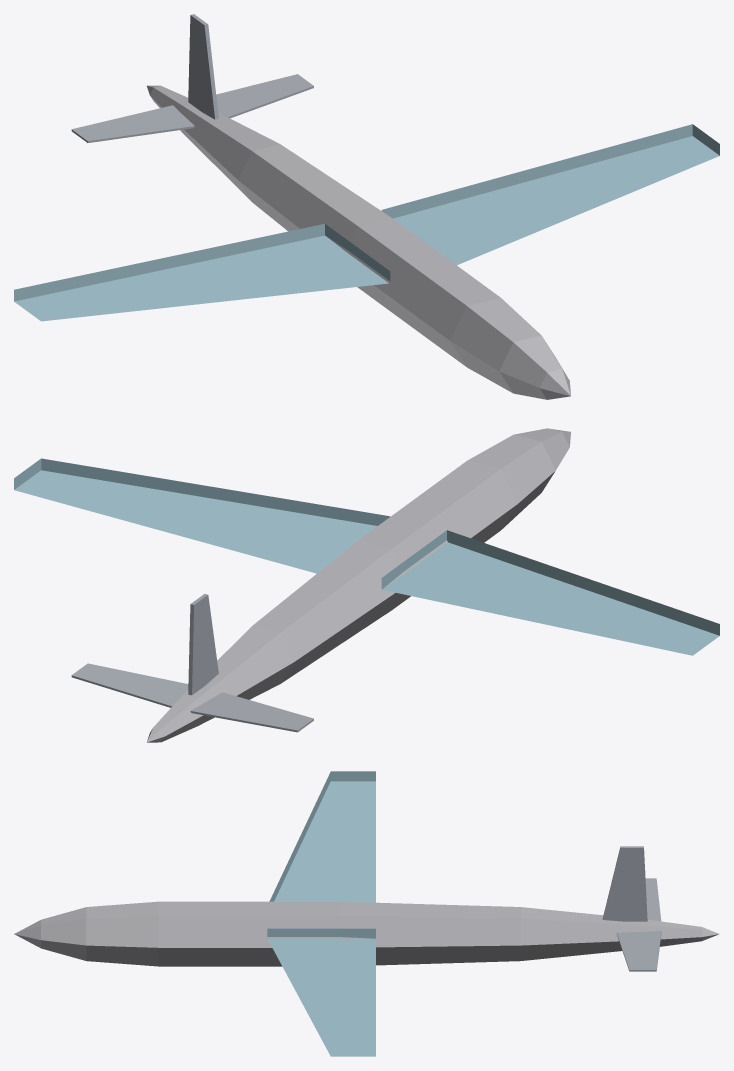
The model's file is airplane.glb.
3 renders of one model, top to bottom at view 1: azimuth 30°, elevation 25°; view 2: azimuth 150°, elevation 25°; view 3: azimuth 270°, elevation 25°, orthographic. The views are drawn at different scales.
Visible parts, largest first — view 1: airplane; view 2: airplane; view 3: airplane.
Boxes of the visible parts, x1,y1,x2,y2 form: airplane: (14, 14, 719, 399); airplane: (14, 428, 719, 742); airplane: (14, 771, 719, 1056).
Bounding box in the file's own units: 3.6 × 0.6859 × 3.9.
